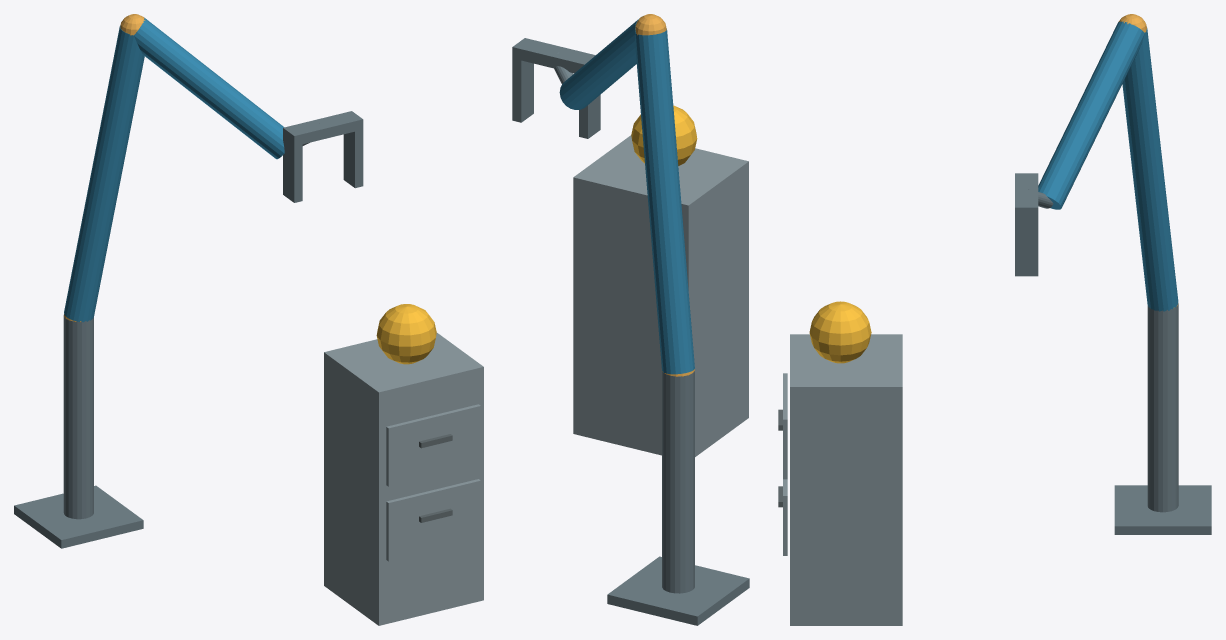
3 views of the same model, side by side, from view 1: azimuth 30°, elevation 25°; view 2: azimuth 150°, elevation 25°; view 3: azimuth 270°, elevation 25° (orthographic). The views are drawn at different scales.
Parts seen in each view (by area): view 1: cabinet_1 body, moving link 1, fixed post, moving link 2, cabinet_1 drawer front, cabinet_1 drawer front.001, pedestal, ball ball_1, gripper bridge, gripper finger -1, gripper finger 1; view 2: cabinet_1 body, moving link 1, fixed post, pedestal, moving link 2, gripper bridge, ball ball_1, gripper finger 1, gripper finger -1, joint 2; view 3: cabinet_1 body, moving link 1, fixed post, moving link 2, pedestal, ball ball_1, gripper finger 1, gripper bridge.
Boxes of the visible parts, bbox=[...] form: cabinet_1 body: bbox=[324, 332, 483, 625]; moving link 1: bbox=[64, 25, 144, 322]; fixed post: bbox=[63, 315, 93, 519]; moving link 2: bbox=[134, 17, 284, 159]; cabinet_1 drawer front: bbox=[386, 479, 480, 561]; cabinet_1 drawer front.001: bbox=[386, 404, 480, 486]; pedestal: bbox=[14, 485, 143, 548]; ball ball_1: bbox=[376, 304, 436, 364]; gripper bridge: bbox=[283, 111, 363, 146]; gripper finger -1: bbox=[283, 138, 302, 202]; gripper finger 1: bbox=[343, 129, 363, 188]; cabinet_1 body: bbox=[573, 135, 748, 456]; moving link 1: bbox=[635, 29, 694, 374]; fixed post: bbox=[662, 371, 694, 593]; pedestal: bbox=[607, 556, 749, 625]; moving link 2: bbox=[559, 18, 639, 109]; gripper bridge: bbox=[512, 38, 595, 73]; ball ball_1: bbox=[631, 105, 697, 165]; gripper finger 1: bbox=[512, 58, 533, 122]; gripper finger -1: bbox=[579, 95, 600, 138]; joint 2: bbox=[635, 14, 666, 35]; cabinet_1 body: bbox=[790, 334, 902, 625]; moving link 1: bbox=[1122, 28, 1178, 311]; fixed post: bbox=[1147, 304, 1178, 512]; moving link 2: bbox=[1038, 21, 1144, 209]; pedestal: bbox=[1114, 485, 1211, 534]; ball ball_1: bbox=[809, 301, 871, 363]; gripper finger 1: bbox=[1015, 218, 1038, 276]; gripper bridge: bbox=[1015, 173, 1038, 218].
Bounding box in the file's own units: 0.8043 × 1.48 × 1.12.
